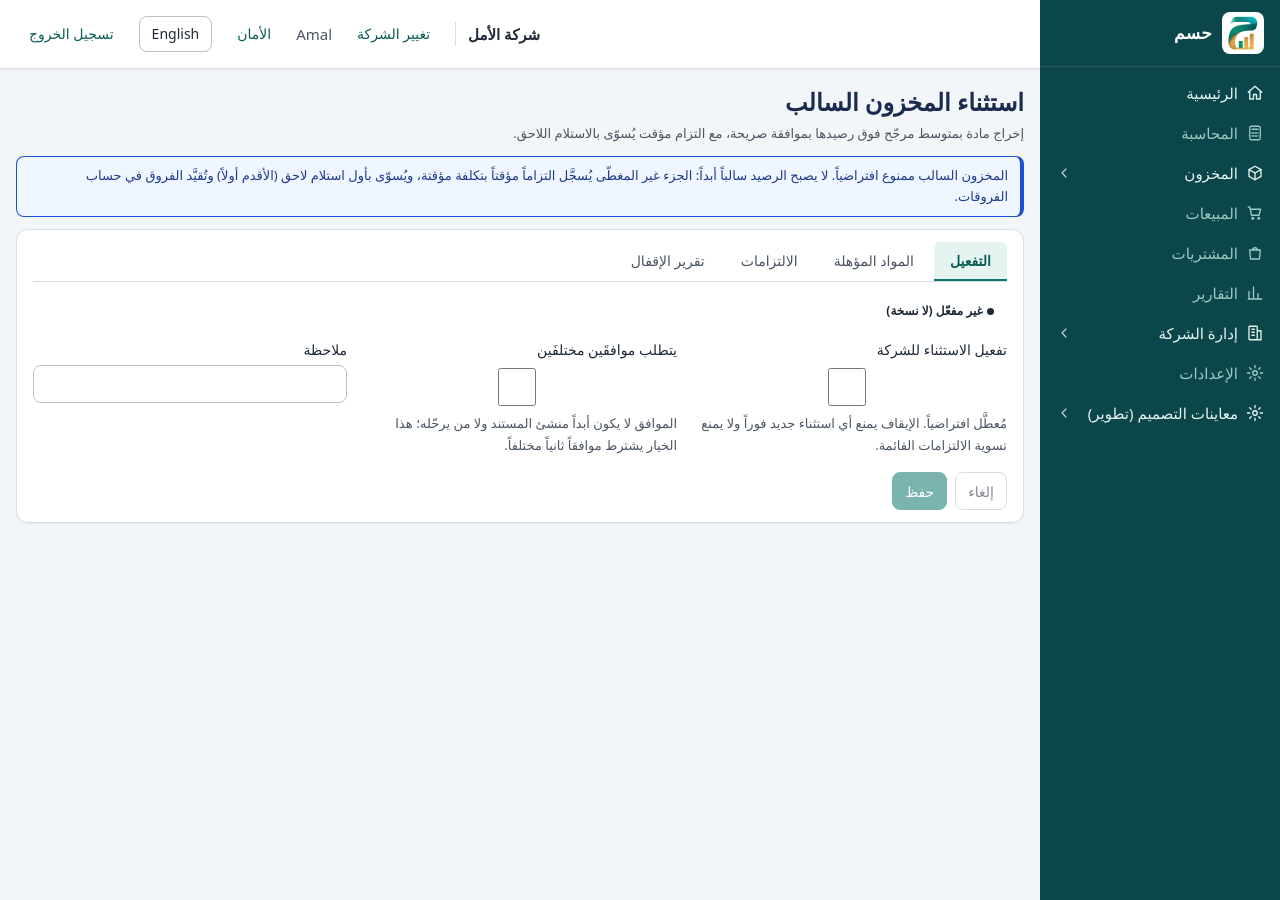
Test: negative-stock exception screen › offers eligibility only to active untracked moving-average items and never removes it while an obligation is open
expect the element with test id "company-name" is shown: met, box [455,22,540,46]
Step 1. Click the tab "المواد المؤهلة" → [874, 262], box [818,242,930,282]
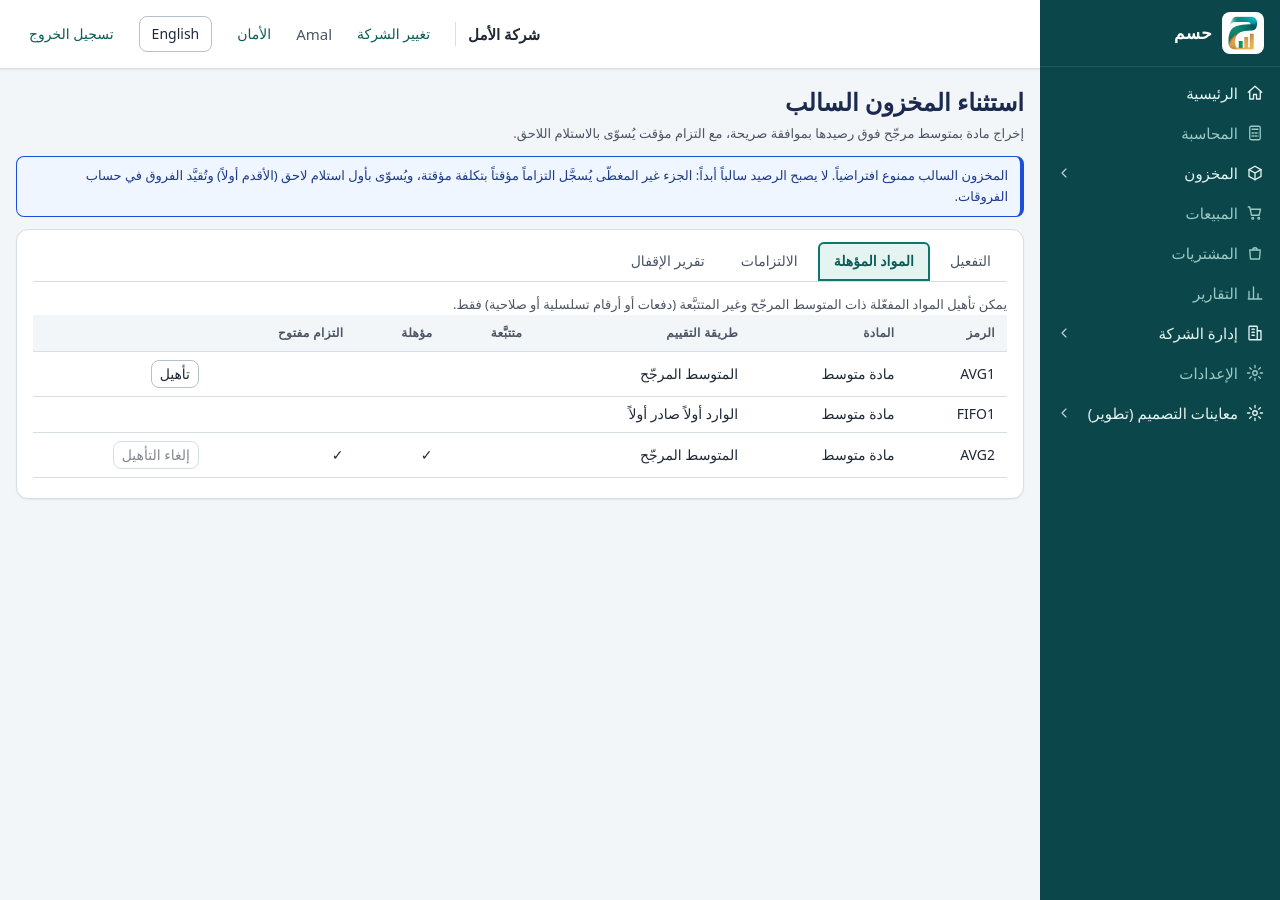
expect the button "إلغاء التأهيل" is disabled: met, box [113,441,199,469]
Step 2. Click the button "تأهيل" → [175, 374], box [151,360,199,388]
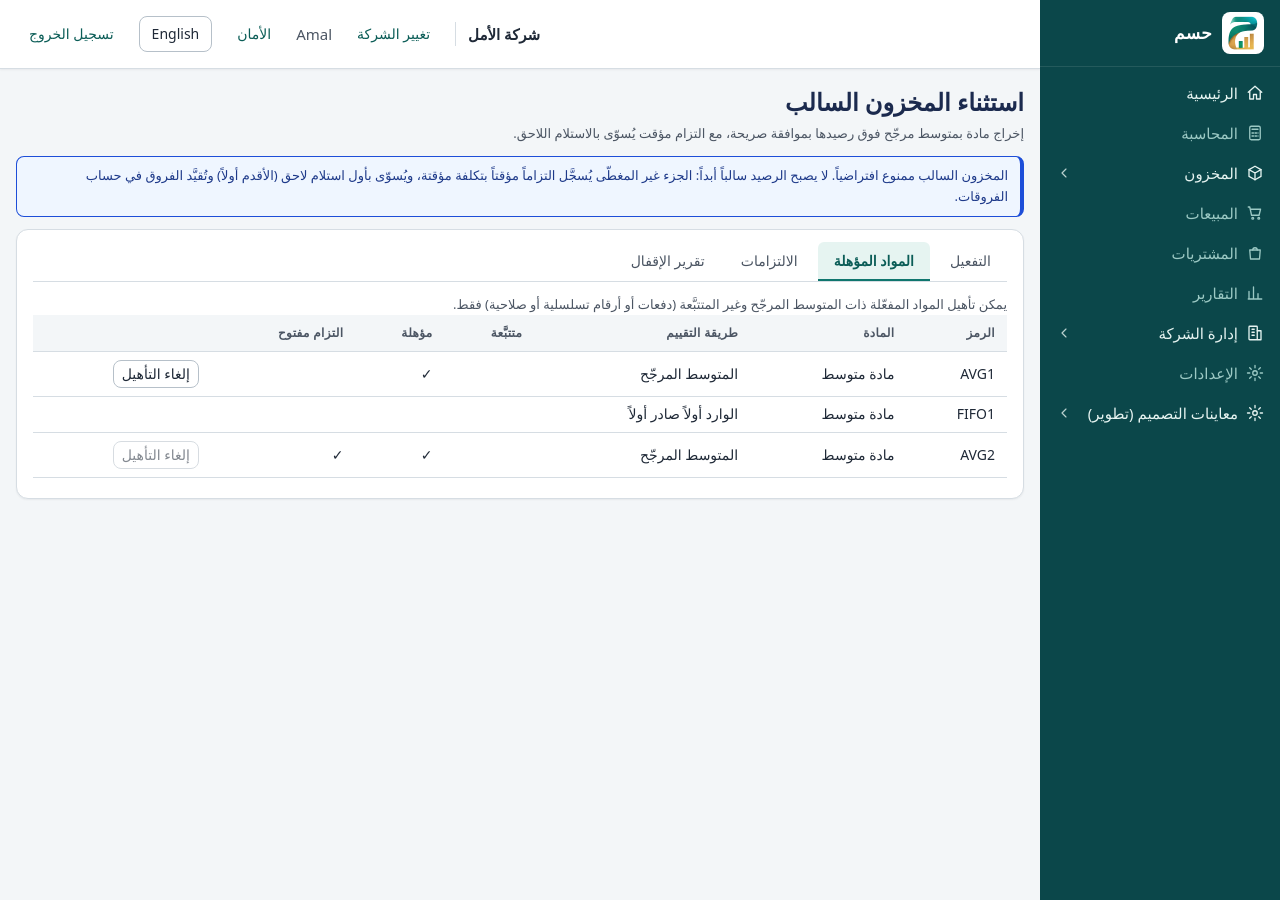
expect the cell with test id "neg-eligible-AVG1" reads "✓": met, box [421,364,432,383]
